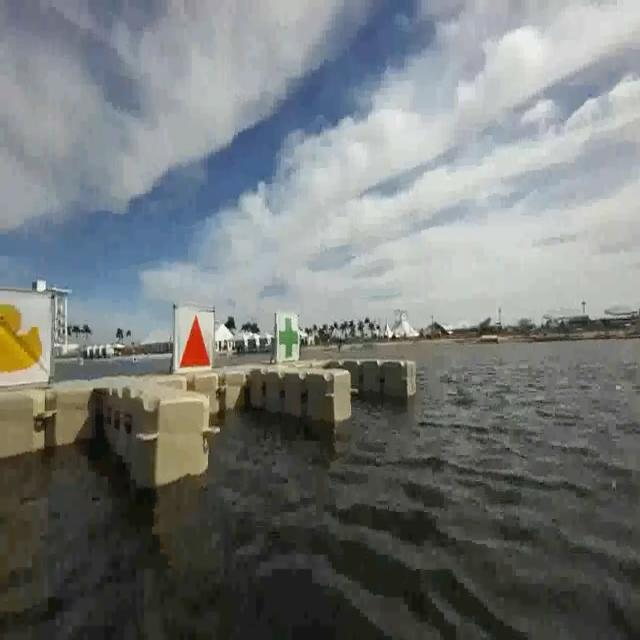blue-cross: (279, 307, 302, 367)
red-dot: (178, 305, 211, 369)
yellow-duck: (0, 300, 43, 377)
